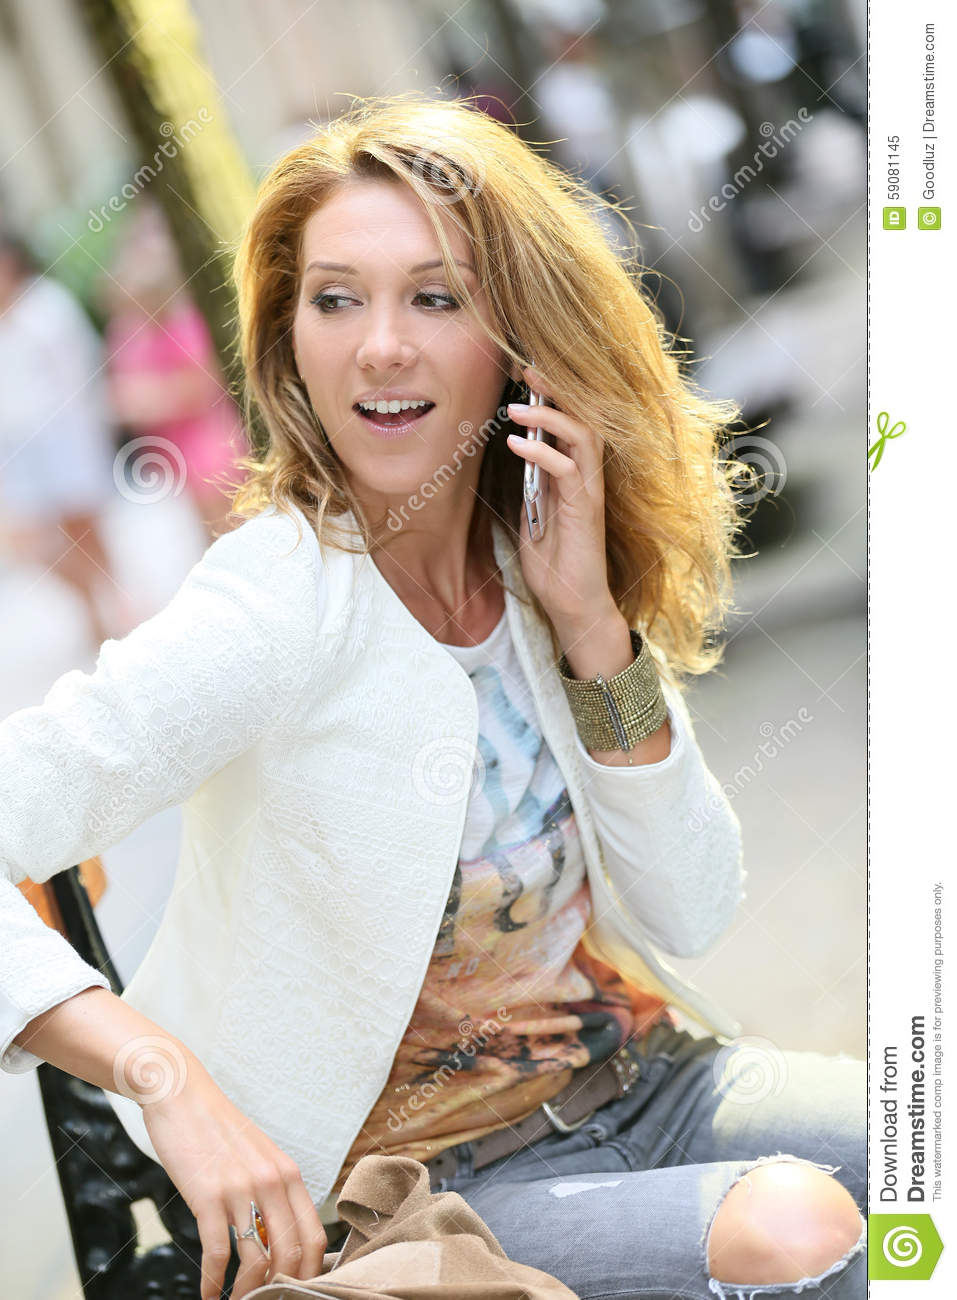phone: (508, 373, 552, 547)
talk: (294, 241, 617, 644)
